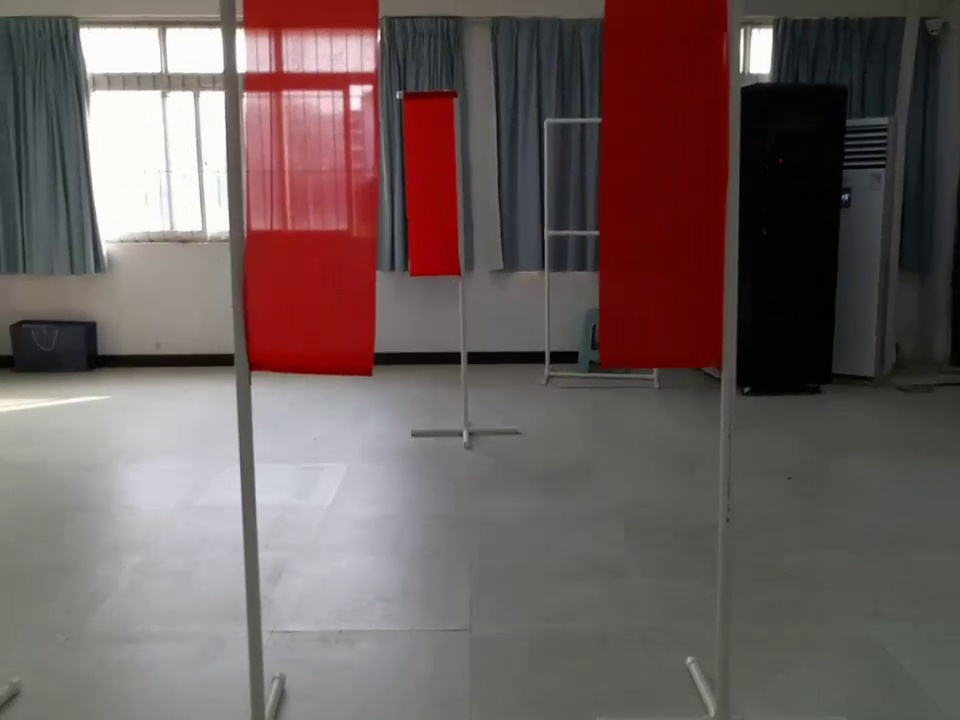qi: (216, 1, 387, 396), (593, 1, 759, 385), (399, 69, 465, 287)
